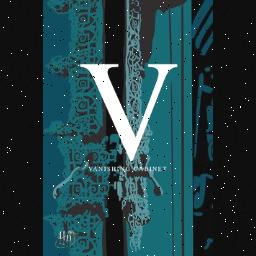v: (78, 52, 178, 164)
